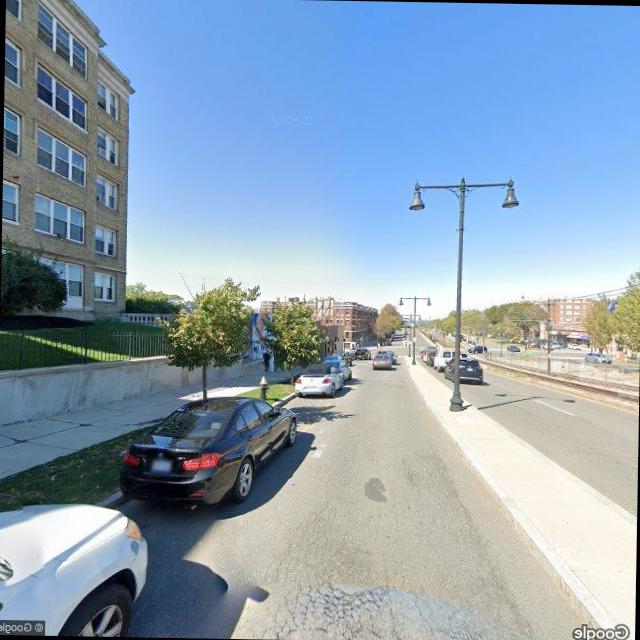crack: (250, 563, 477, 640)
